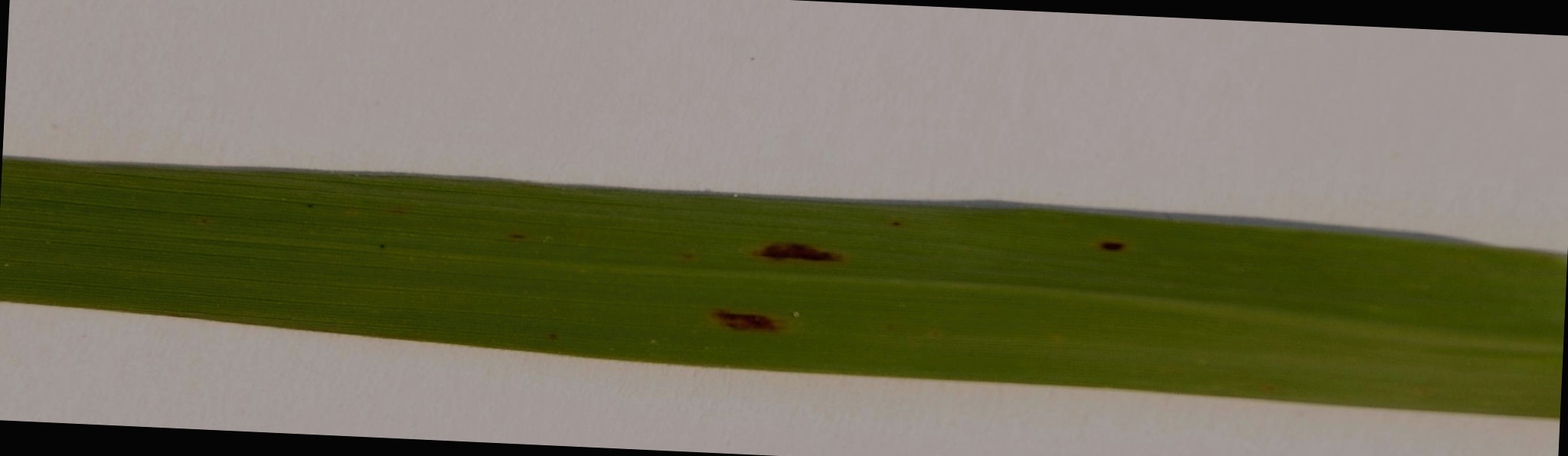Bacterial_Leaf_Blight: (705, 219, 857, 286), (666, 301, 790, 340), (1064, 230, 1150, 267)
